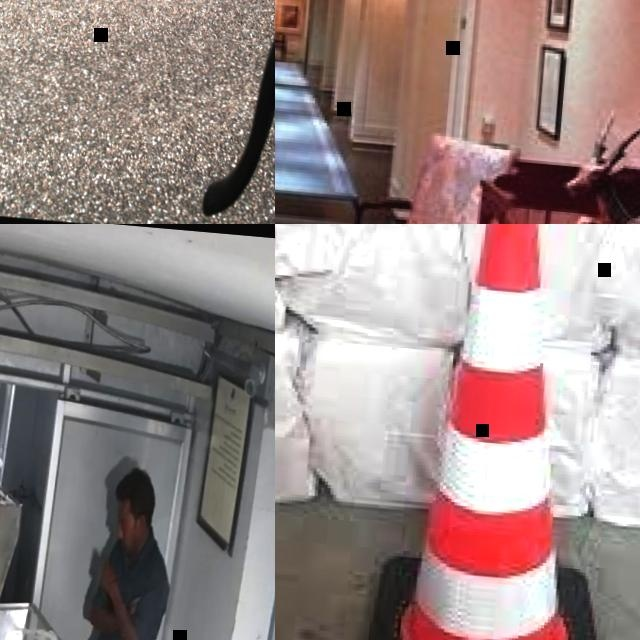NO-Hardhat: (113, 470, 154, 513)
NO-Mask: (119, 531, 137, 554)
NO-Safety Vest: (86, 543, 165, 640)
Person: (54, 466, 179, 640)
Safety Cone: (350, 224, 640, 640)
